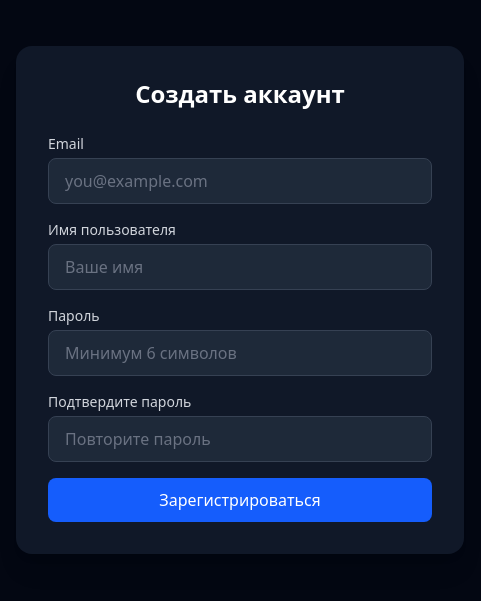
RegisterForm › shows error when passwords do not match
Step 1. Type "test@test.com" into the field labelled "Email" → (240, 181), box [48, 158, 432, 204]
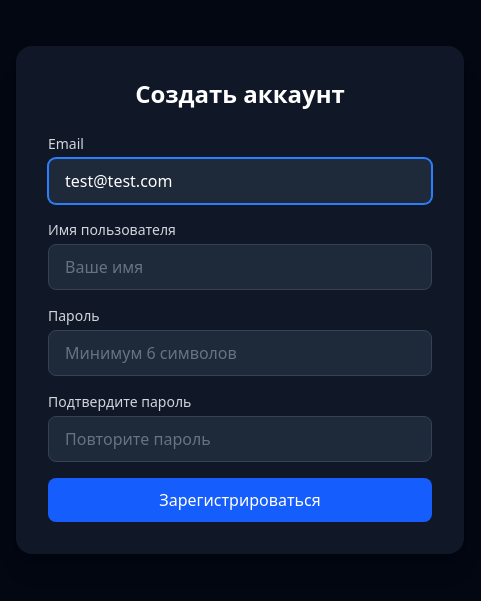
Step 2. Type "Test" into the field labelled "Имя пользователя" → (240, 267), box [48, 244, 432, 290]
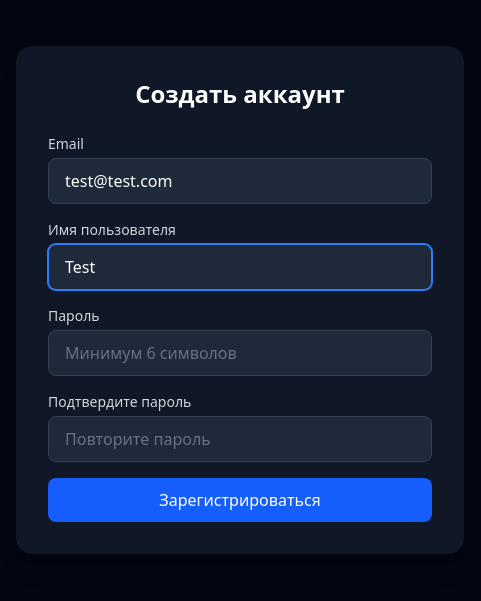
Step 3. Type "password123" into the password field labelled "Пароль" → (240, 353), box [48, 330, 432, 376]
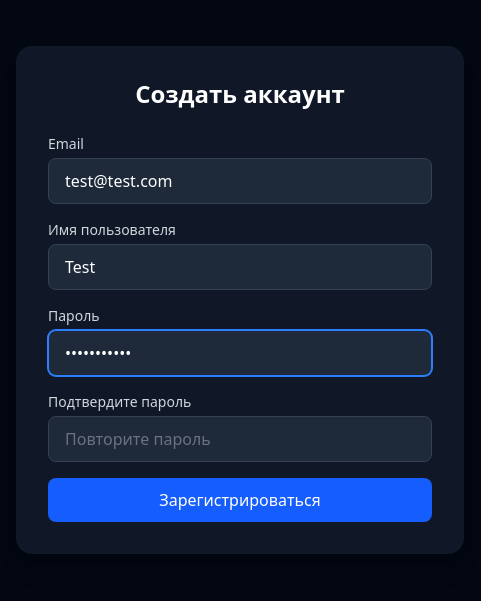
Step 4. Type "different" into the password field labelled "Подтвердите пароль" → (240, 439), box [48, 416, 432, 462]
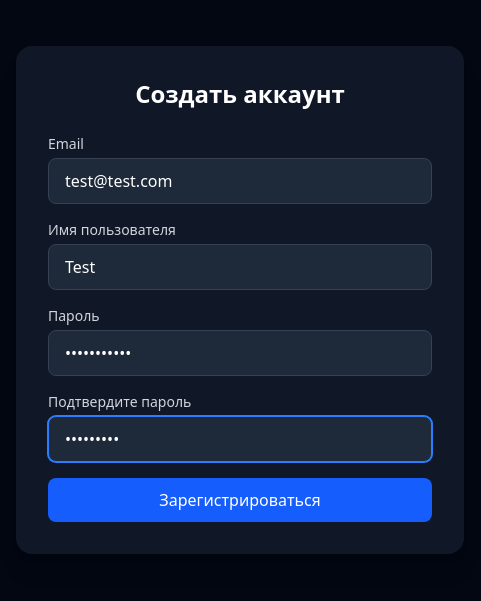
Step 5. Click the button "Зарегистрироваться" → (240, 500), box [48, 478, 432, 522]
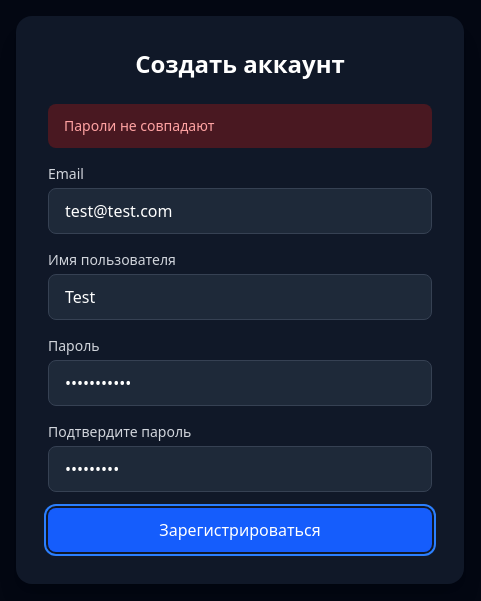
Result: the message reads "Пароли не совпадают" at [64, 116, 214, 135]
